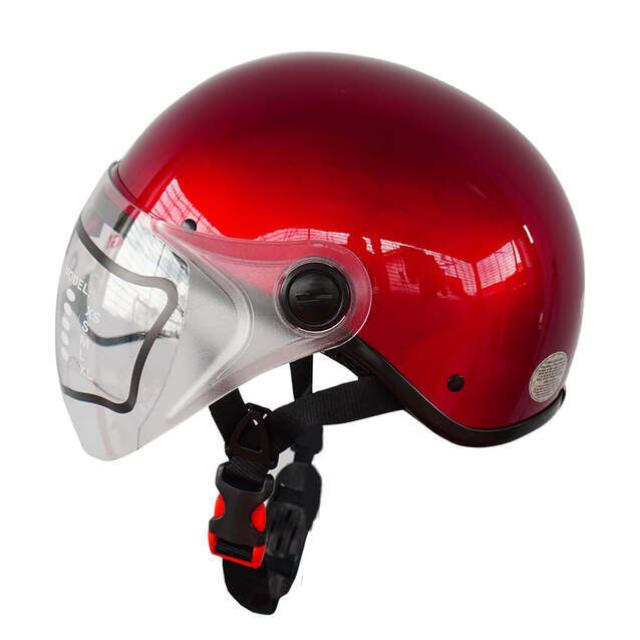Helmet: (49, 47, 589, 615)
